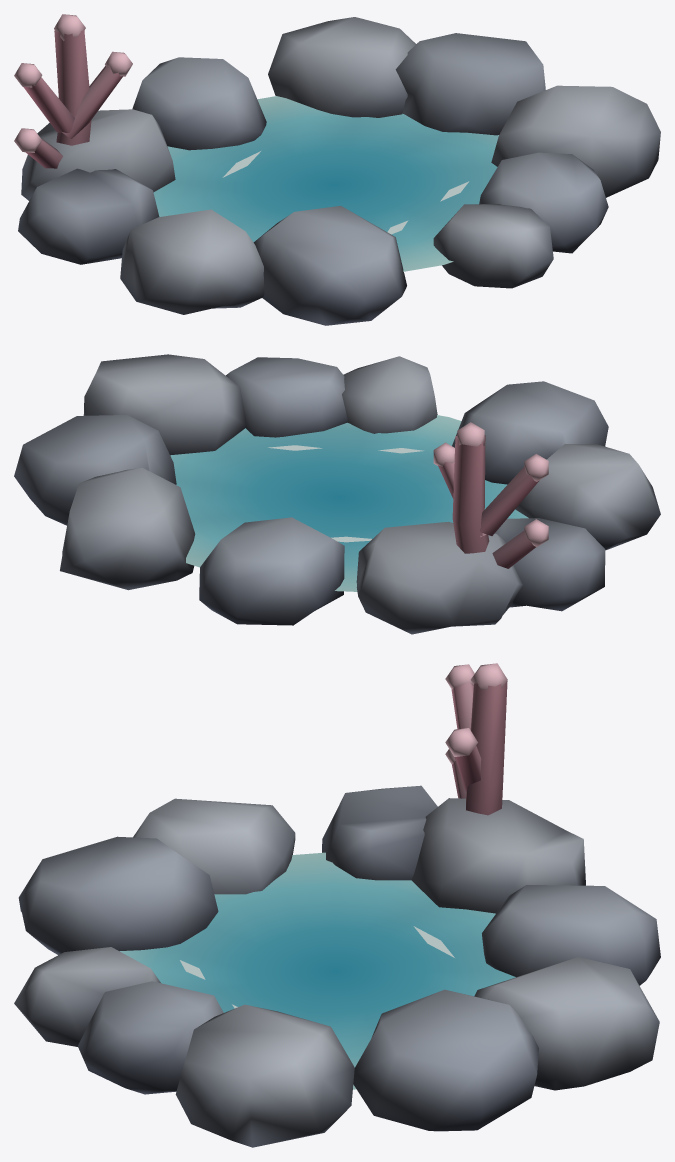
The model's file is prop-scav-seaGlass-taken.glb.
The picture shows the model from 3 angles, top to bottom: view 1: azimuth 30°, elevation 25°; view 2: azimuth 150°, elevation 25°; view 3: azimuth 270°, elevation 25°; orthographic projection. The views are drawn at different scales.
Visible parts, largest first — view 1: body; view 2: body; view 3: body.
Boxes of the visible parts, x1,y1,x2,y2 form: body: (14,14,660,325); body: (14,354,660,634); body: (14,663,660,1147).
Size of the model in its own units: 1.36 by 0.468 by 1.18.
